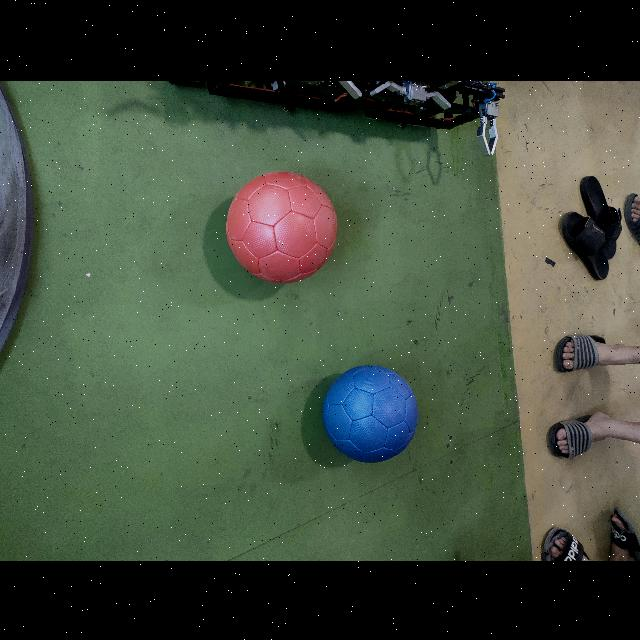B: (324, 363, 418, 463)
R: (227, 170, 337, 282)
